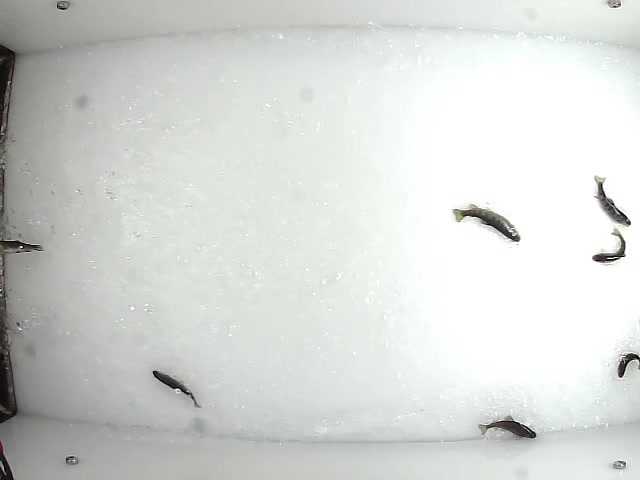fish: (450, 203, 523, 245), (150, 368, 203, 410), (592, 174, 632, 226), (590, 228, 629, 266), (476, 415, 537, 439), (615, 351, 640, 379)
